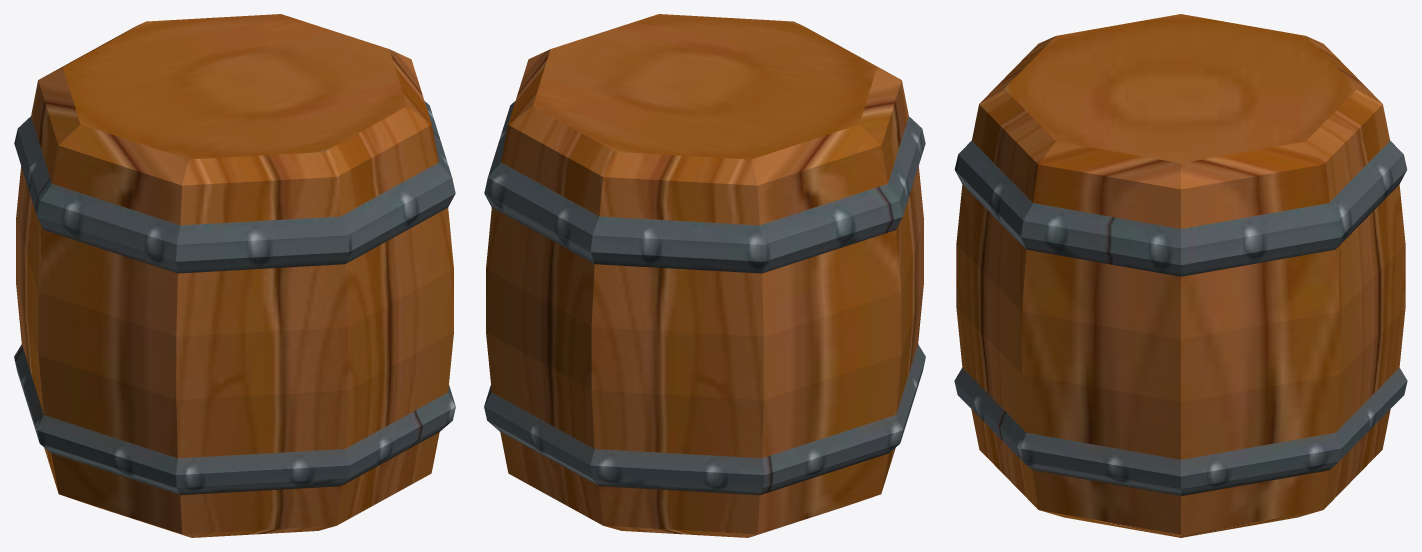
File: SpecialObstacles.fbx
The picture shows the model from 3 angles, left to right: view 1: azimuth 30°, elevation 25°; view 2: azimuth 150°, elevation 25°; view 3: azimuth 270°, elevation 25°; orthographic projection.
Parts seen in each view (by area): view 1: Barrel; view 2: Barrel; view 3: Barrel.
Boxes of the visible parts, bbox=[...] form: Barrel: bbox=[14, 14, 455, 537]; Barrel: bbox=[484, 14, 925, 537]; Barrel: bbox=[954, 14, 1407, 537].
Size of the model in its own units: 0.908 by 0.8388 by 0.908.
